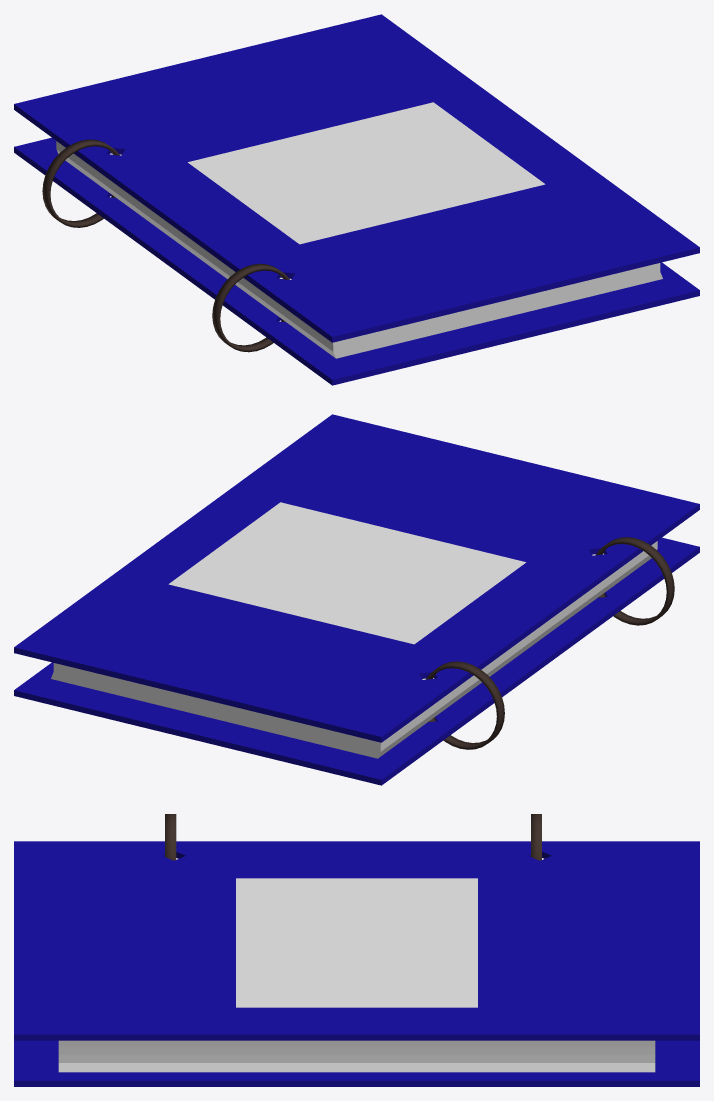
The model's file is binder.glb.
3 renders of one model, top to bottom at view 1: azimuth 30°, elevation 25°; view 2: azimuth 150°, elevation 25°; view 3: azimuth 270°, elevation 25°, orthographic. The views are drawn at different scales.
Parts seen in each view (by area): view 1: prop_binder_closed, prop_binderring; view 2: prop_binder_closed, prop_binderring; view 3: prop_binder_closed, prop_binderring.
Boxes of the visible parts, x1,y1,x2,y2 form: prop_binder_closed: [14, 14, 699, 385]; prop_binderring: [42, 139, 289, 352]; prop_binder_closed: [14, 414, 699, 785]; prop_binderring: [426, 537, 674, 749]; prop_binder_closed: [14, 841, 699, 1086]; prop_binderring: [165, 814, 541, 860].
Bounding box in the file's own units: 0.2244 × 0.0429 × 0.3.
